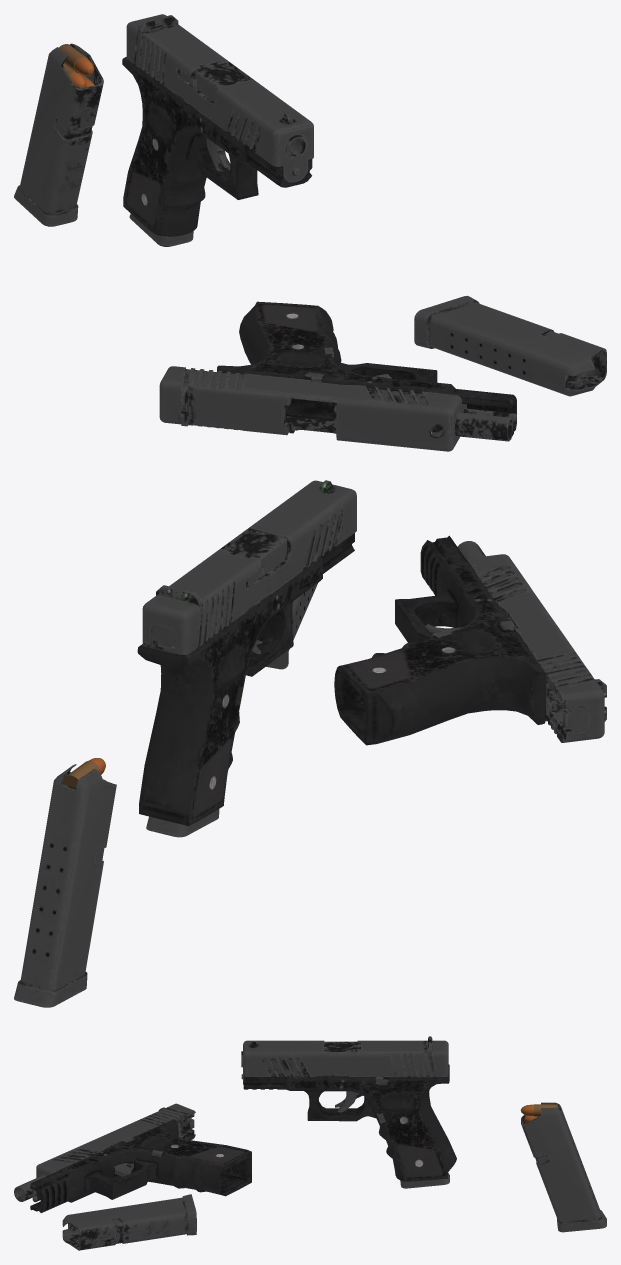
3 views of the same model, one above another, from view 1: azimuth 30°, elevation 25°; view 2: azimuth 150°, elevation 25°; view 3: azimuth 270°, elevation 25° (orthographic). The views are drawn at different scales.
Parts seen in each view (by area): view 1: Display1; view 2: Display1; view 3: Display1.
Part boxes in pixels (x1,y1,x2,y2): Display1: (14, 14, 606, 451); Display1: (14, 480, 606, 1007); Display1: (14, 1036, 606, 1250).
Size of the model in its own units: 0.2835 by 0.1976 by 0.5703.
Materials: 2 (2 with a texture image).
